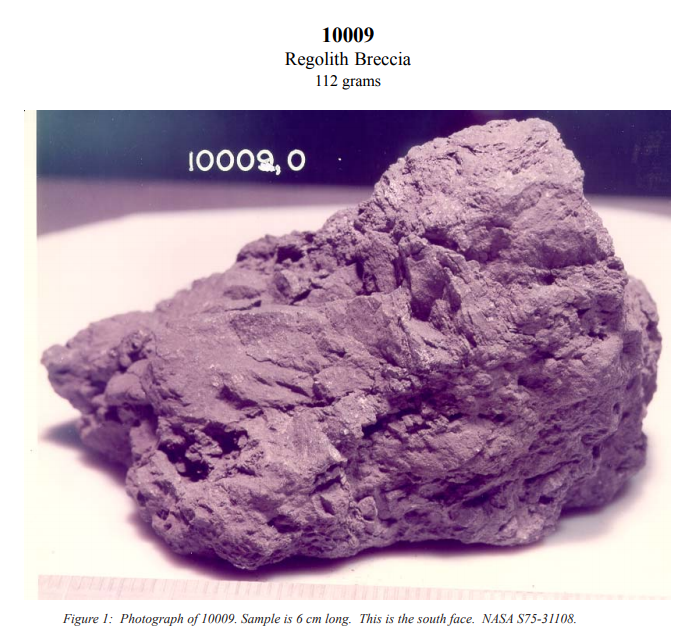Breccia: (77, 147, 658, 568)
